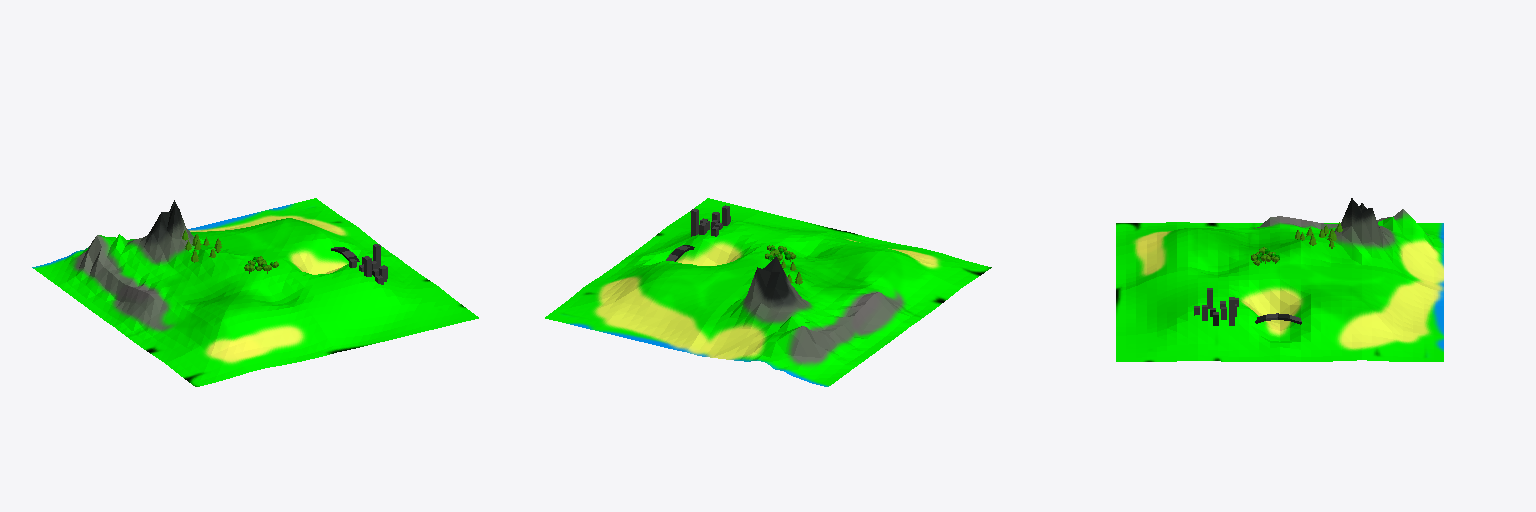
3 views of the same model, side by side, from view 1: azimuth 30°, elevation 25°; view 2: azimuth 150°, elevation 25°; view 3: azimuth 270°, elevation 25° (orthographic).
Parts seen in each view (by area): view 1: Plane.001; view 2: Plane.001; view 3: Plane.001.
Part boxes in pixels (bbox=[...]): Plane.001: bbox=[32, 198, 478, 386]; Plane.001: bbox=[545, 198, 991, 386]; Plane.001: bbox=[1116, 198, 1443, 361].
Size of the model in its own units: 246 by 60.93 by 246.
Materials: 1 (1 with a texture image).